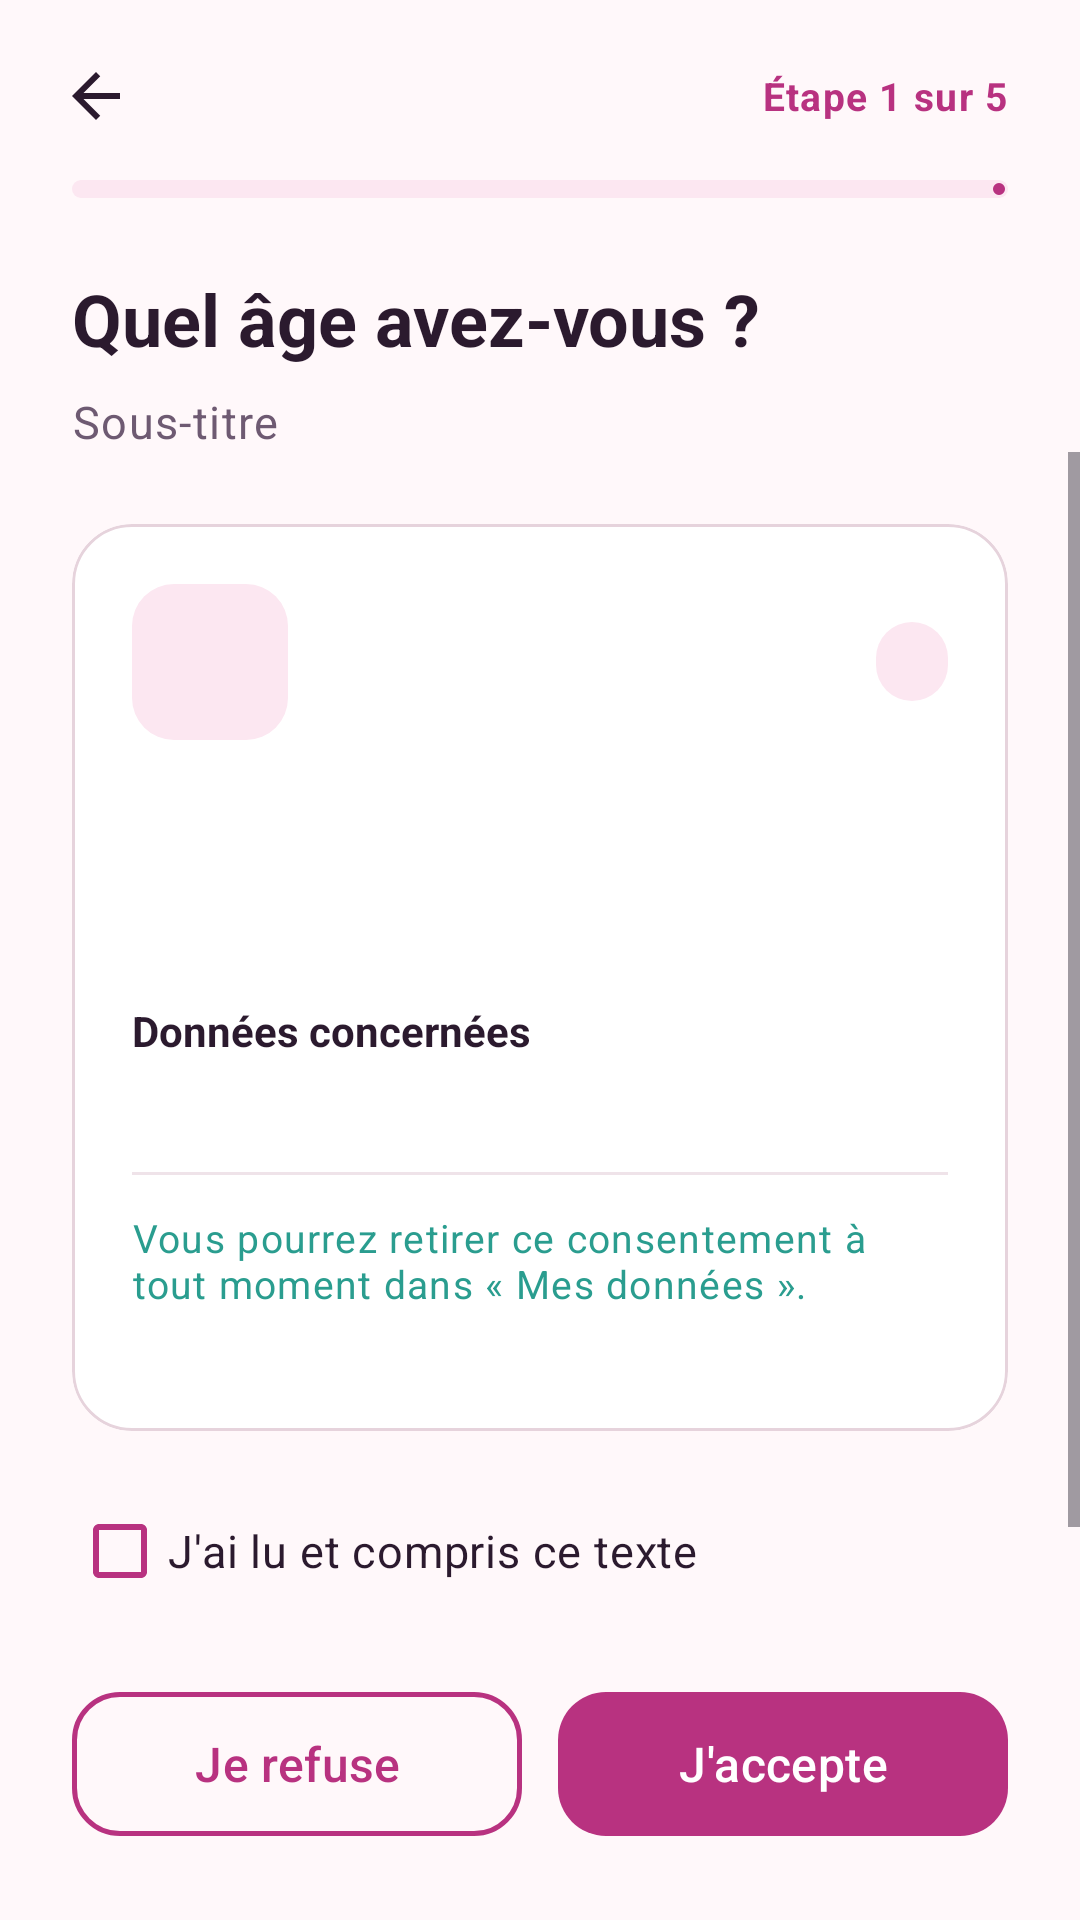

Icons on this 1080px×1920px Android screen, each with its box as Rect(x1, y1, x2, y2):
Retour: Rect(72, 72, 120, 120)
